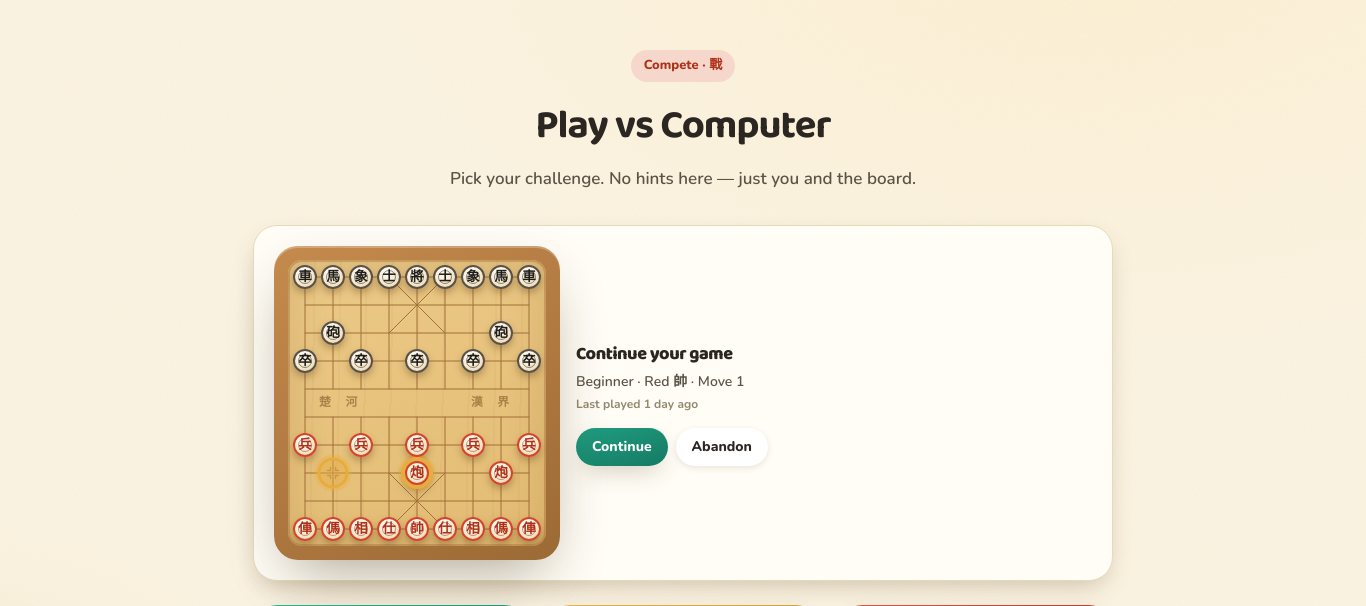
Test case: PlayScreen save/resume › abandons save from continue card
Expected: the element with test id "continue-saved-game" is shown, [253, 225, 1113, 581]
Click the button "Abandon": (722, 447) [676, 428, 768, 466]
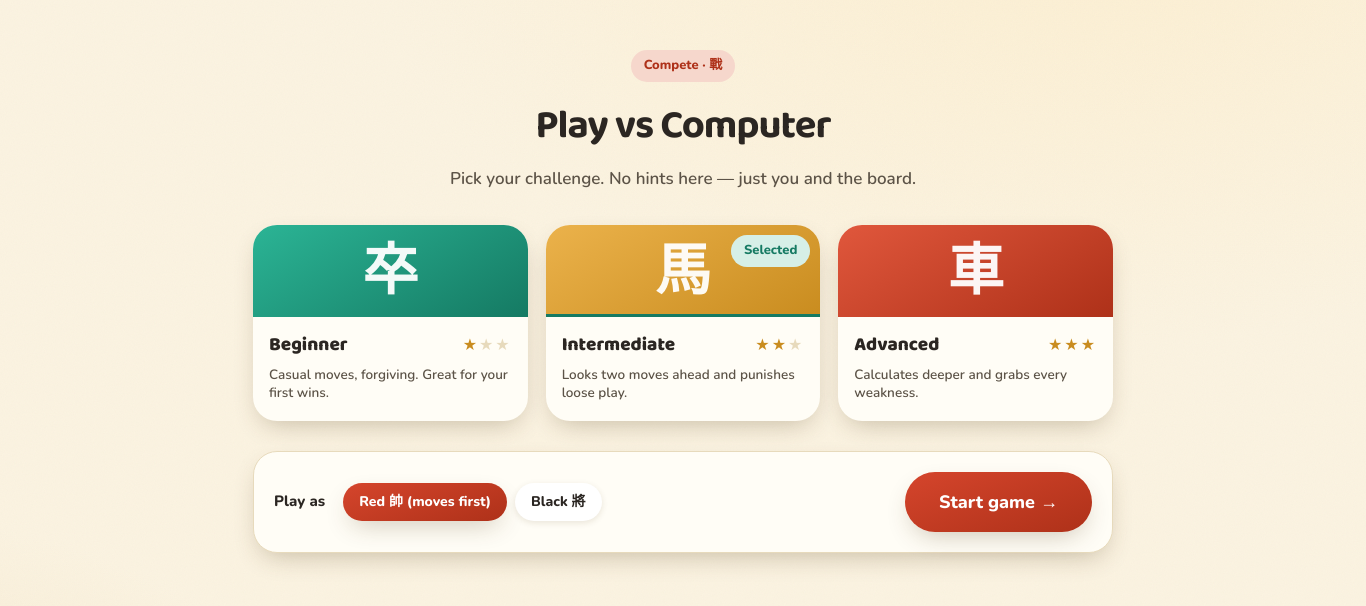
Expected: the element with test id "continue-saved-game" is gone
